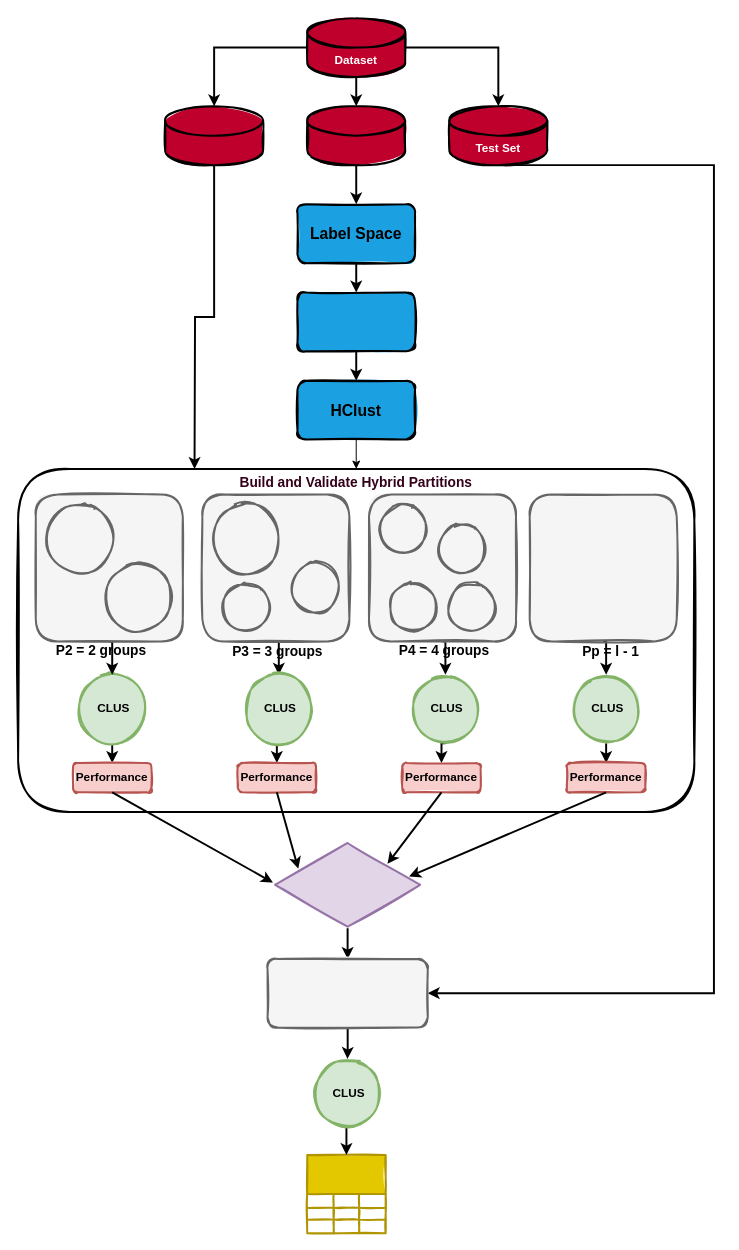
Image size: 739x1250. Some labels were removed from this diagram. The shapes that lost their labels are listed below. From the top down, each one's centre as x and y in pixels, then its label:
At point (214, 135): "Validation Set".
At point (356, 135): "Train Set".
At point (356, 321): "Jaccard Index".
At point (347, 884): "Best Hybrid Partition Macro-F1".
At point (347, 992): "Build and Test the best hybrid partition".
At point (346, 1193): "Results".
